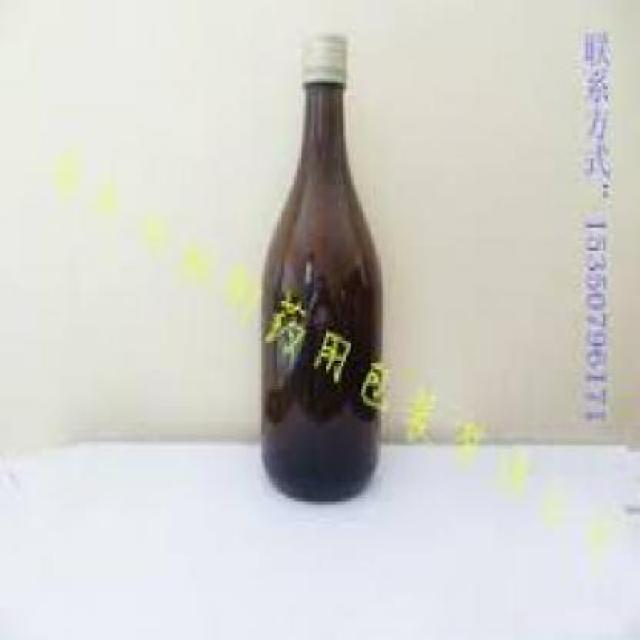kaca: (256, 79, 376, 498)
